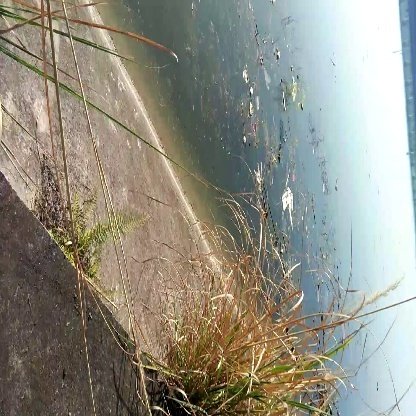grass: (190, 294, 297, 416)
